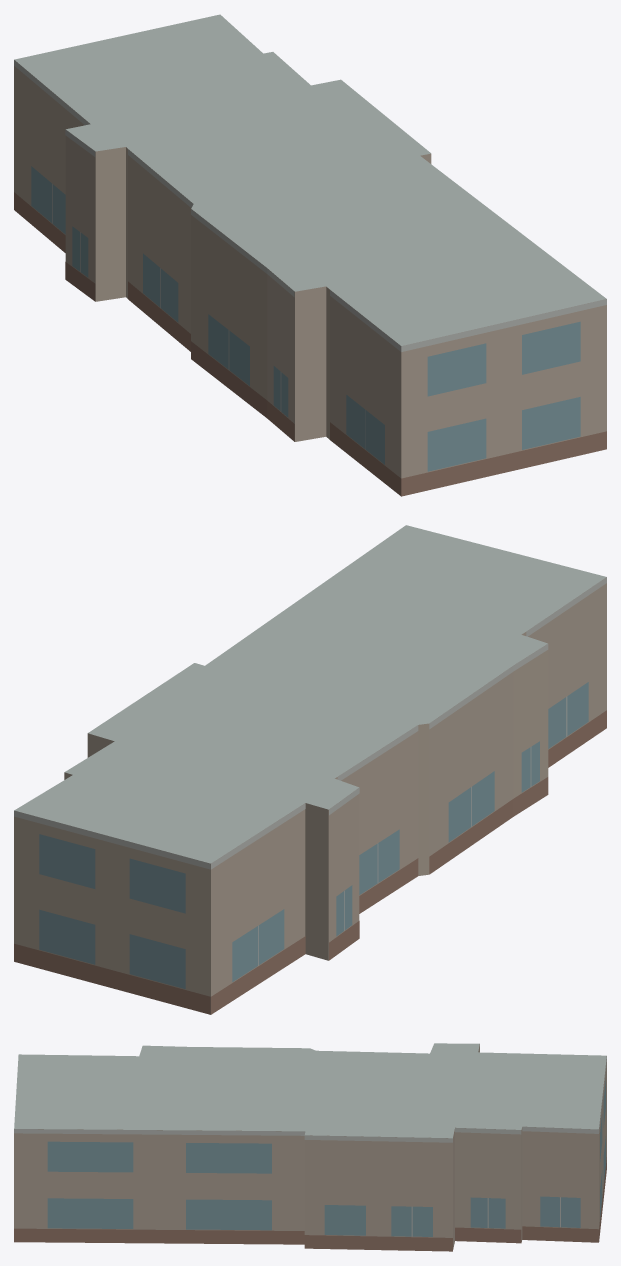
Rendered from survey-upis-32466046.glb.
3 views of the same model, one above another, from view 1: azimuth 30°, elevation 25°; view 2: azimuth 150°, elevation 25°; view 3: azimuth 270°, elevation 25° (orthographic). The views are drawn at different scales.
Visible parts, largest first — view 1: survey-upis-32466046.tmp; view 2: survey-upis-32466046.tmp; view 3: survey-upis-32466046.tmp.
Part boxes in pixels (left/top/right/bottom): survey-upis-32466046.tmp: left=14, top=14, right=606, bottom=496; survey-upis-32466046.tmp: left=14, top=525, right=606, bottom=1014; survey-upis-32466046.tmp: left=14, top=1043, right=606, bottom=1251.
Size of the model in its own units: 10.96 by 6.1 by 28.94.
